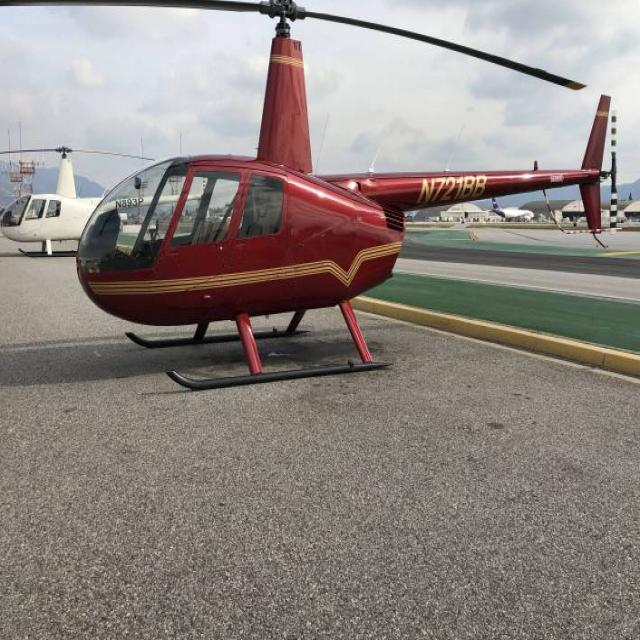helicopter: (1, 1, 624, 403)
